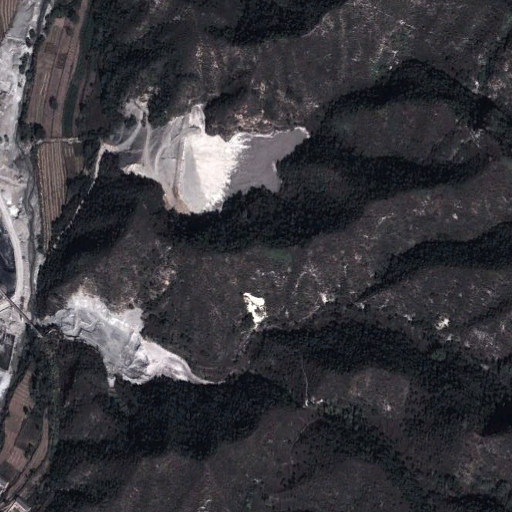tp: (119, 105, 309, 216)
